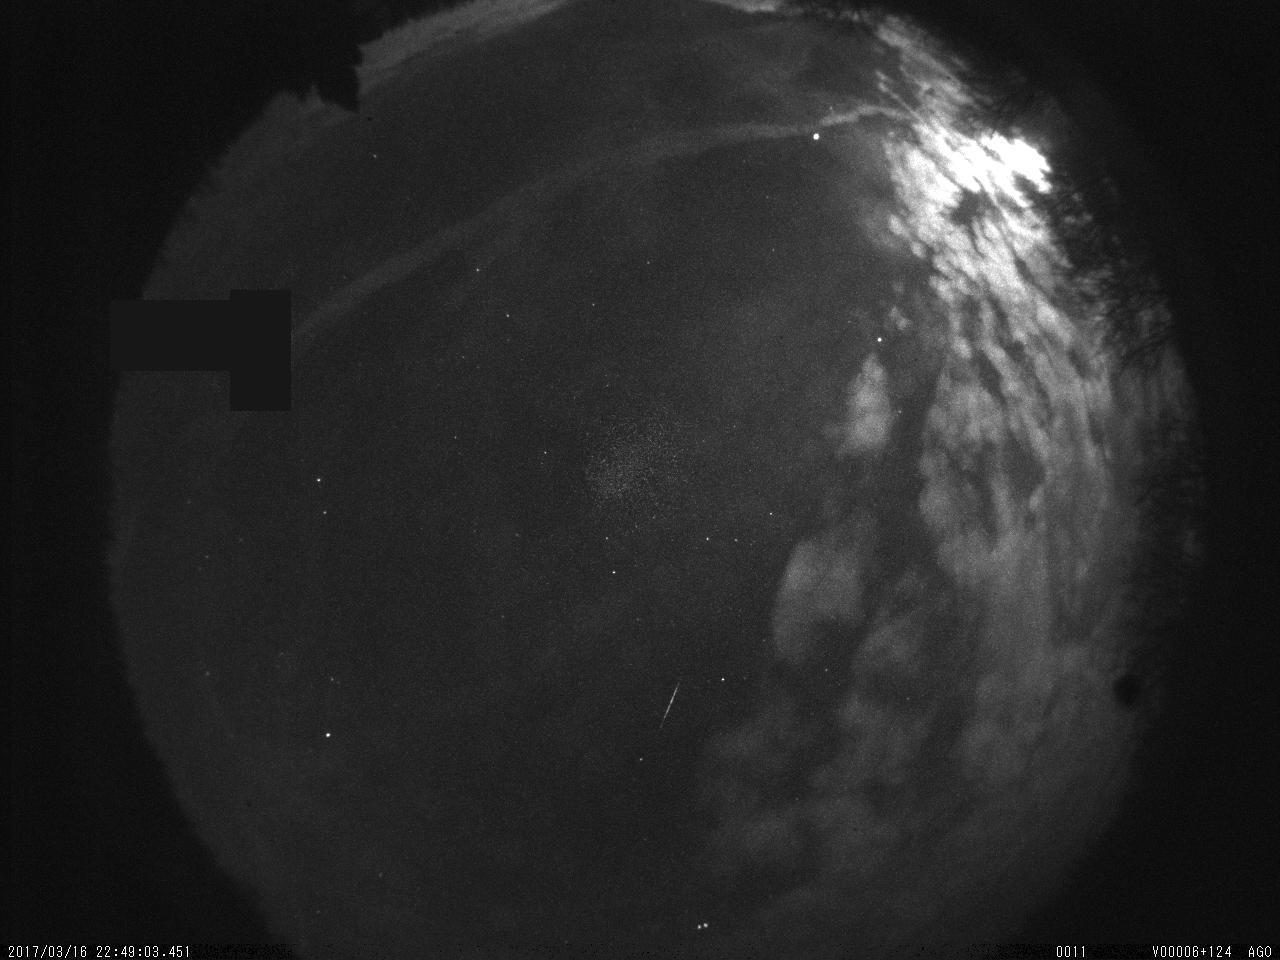meteor: (646, 657, 690, 741)
